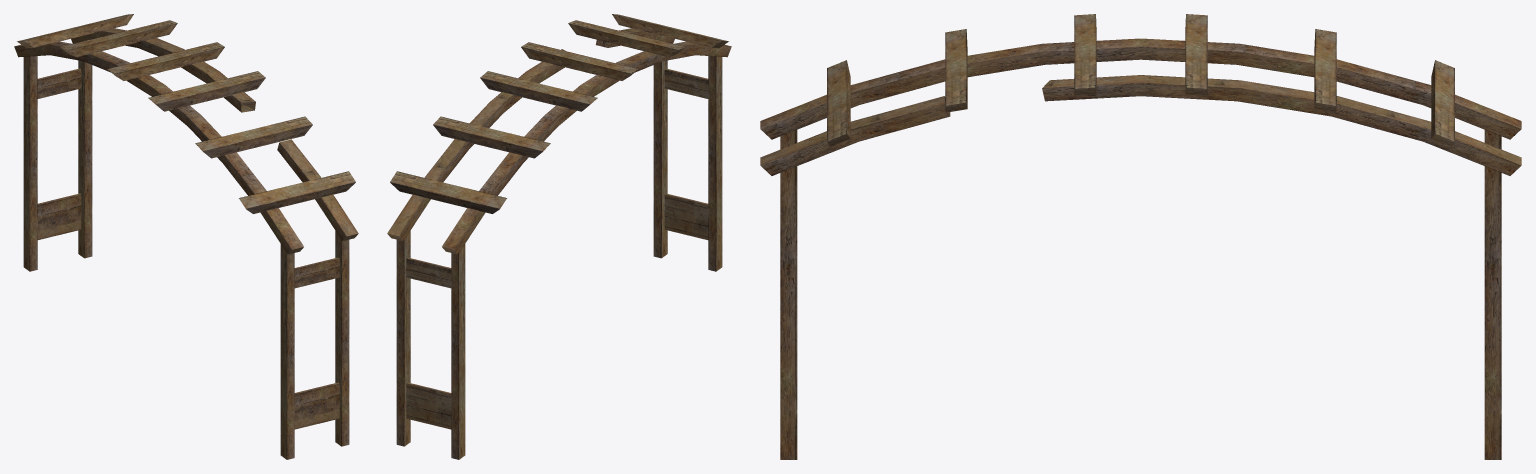
The model's file is M_Home_Garden_Pergola_01.fbx.
3 renders of one model, left to right at view 1: azimuth 30°, elevation 25°; view 2: azimuth 150°, elevation 25°; view 3: azimuth 270°, elevation 25°, orthographic. The views are drawn at different scales.
Visible parts, largest first — view 1: M_Home_Garden_Pergola_01; view 2: M_Home_Garden_Pergola_01; view 3: M_Home_Garden_Pergola_01.
Boxes of the visible parts, x1,y1,x2,y2 form: M_Home_Garden_Pergola_01: [14, 14, 358, 459]; M_Home_Garden_Pergola_01: [387, 14, 731, 459]; M_Home_Garden_Pergola_01: [760, 14, 1521, 459].
Size of the model in its own units: 148 by 364 by 646.
